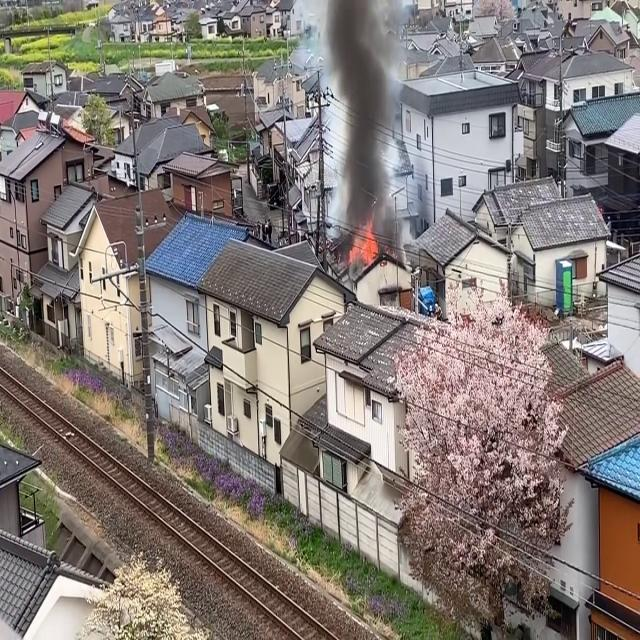Fire: (346, 219, 380, 268)
Smoke: (322, 1, 404, 248)
